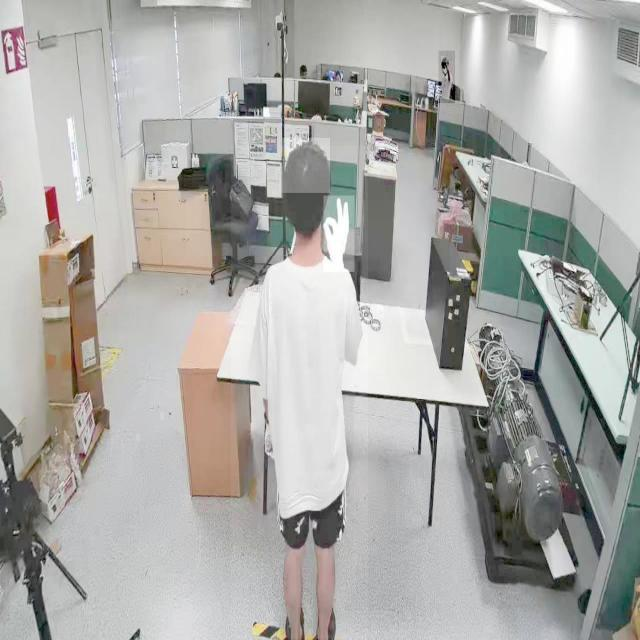gloves: (324, 195, 354, 272)
